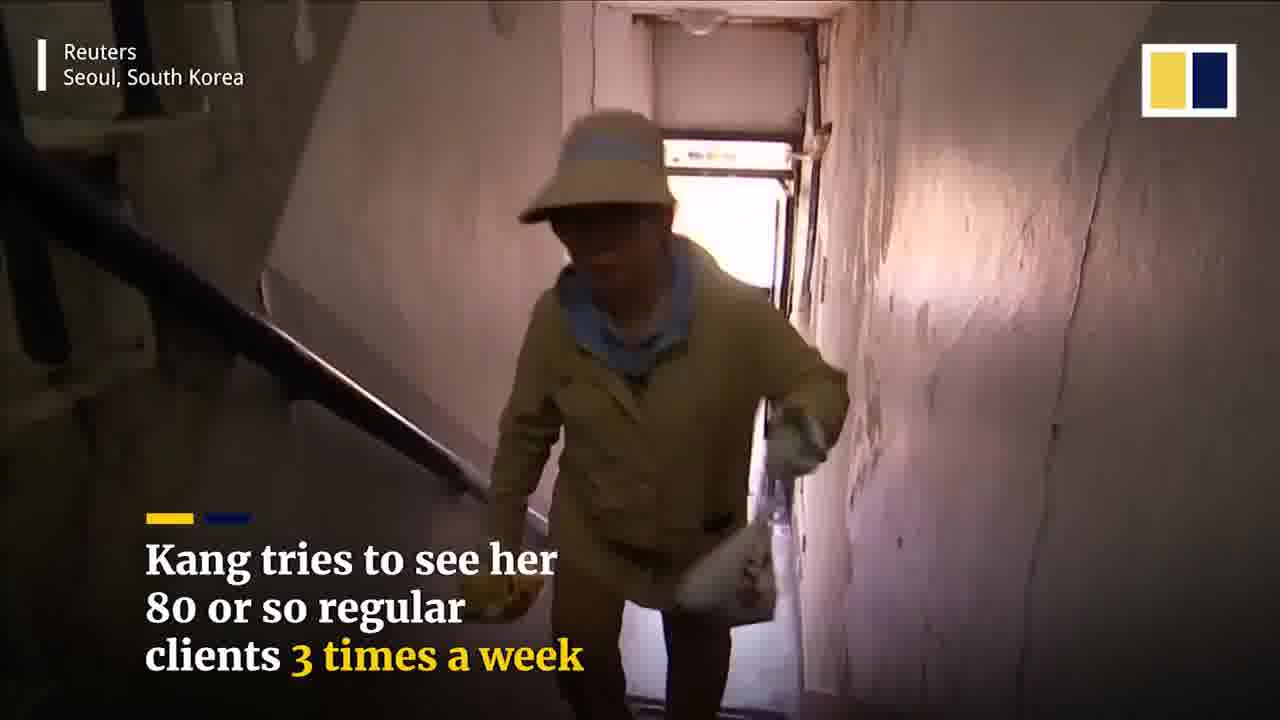Yakurut: (442, 92, 874, 720)
